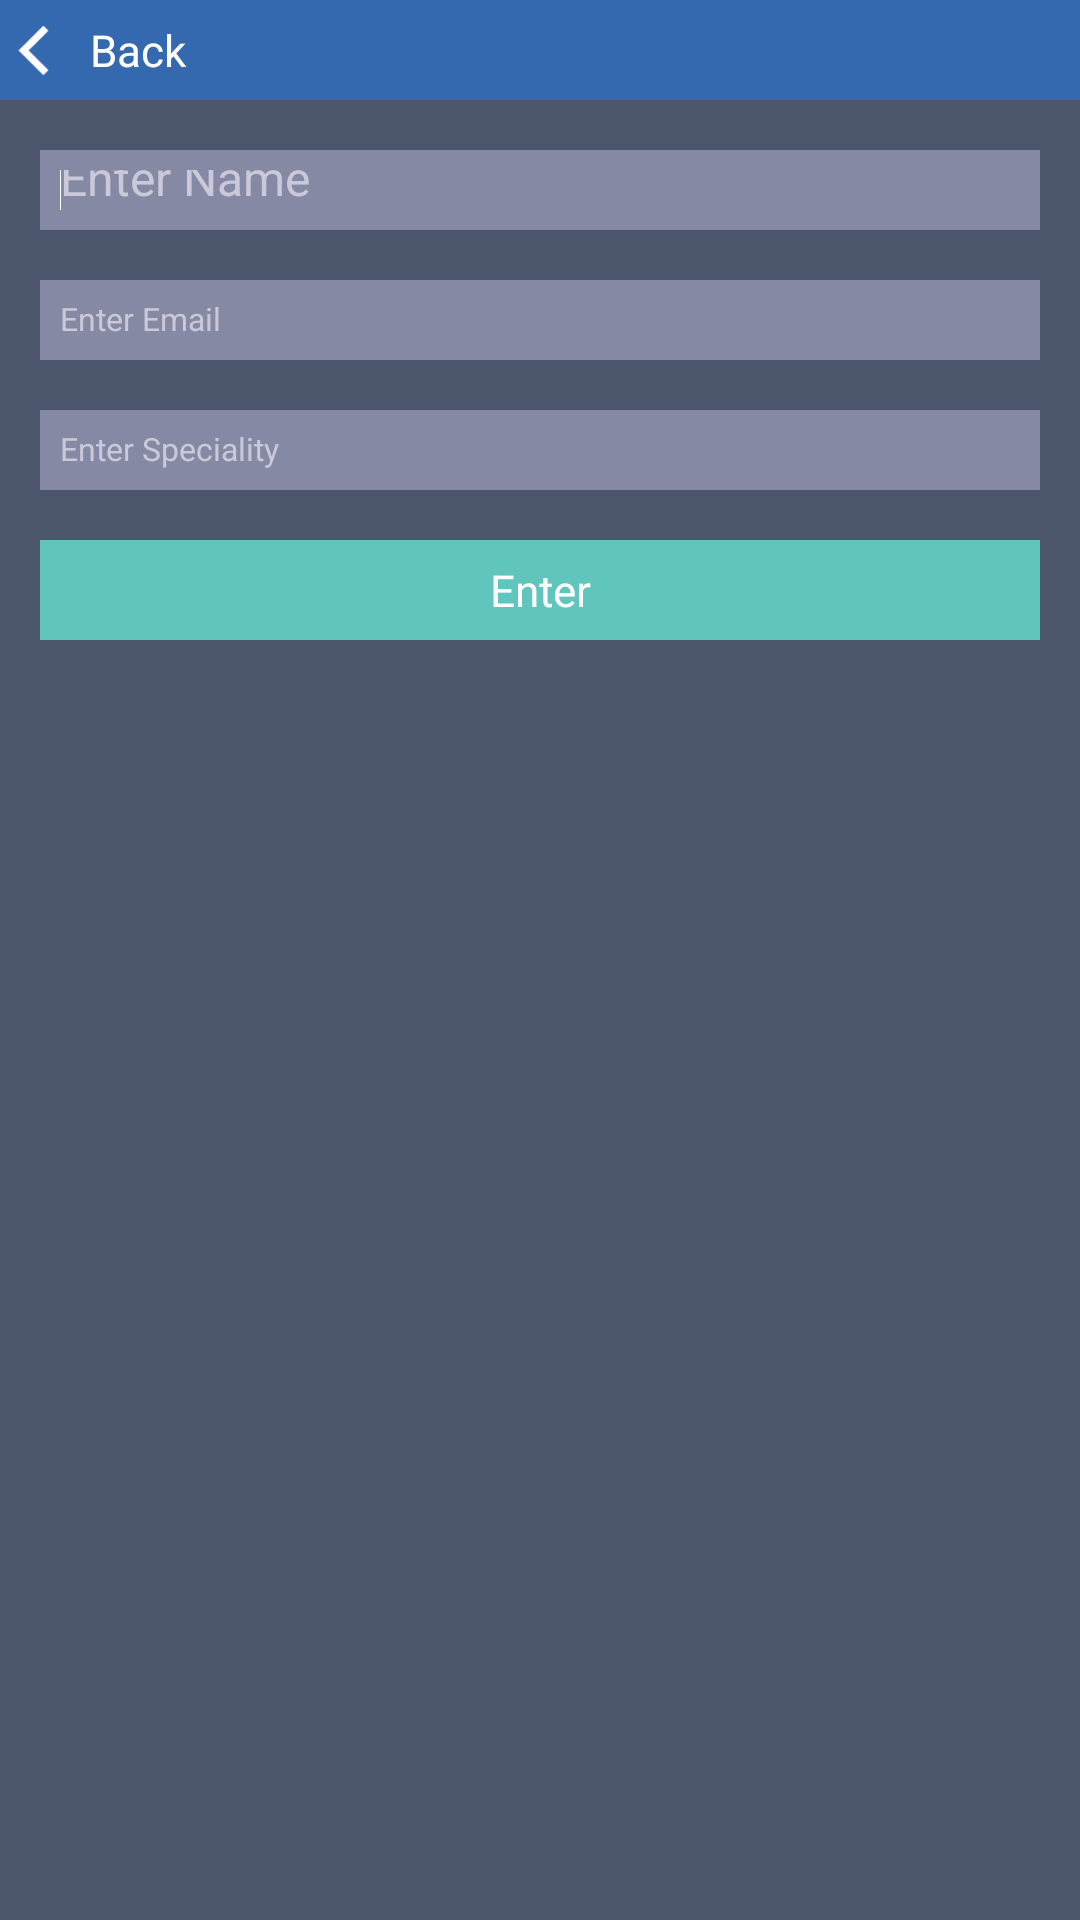

Locate icon controls on the screen. Image size 1080x1920, boxes as detection(x1, y1, x2, y2).
bck arrow: detection(18, 26, 49, 75)
